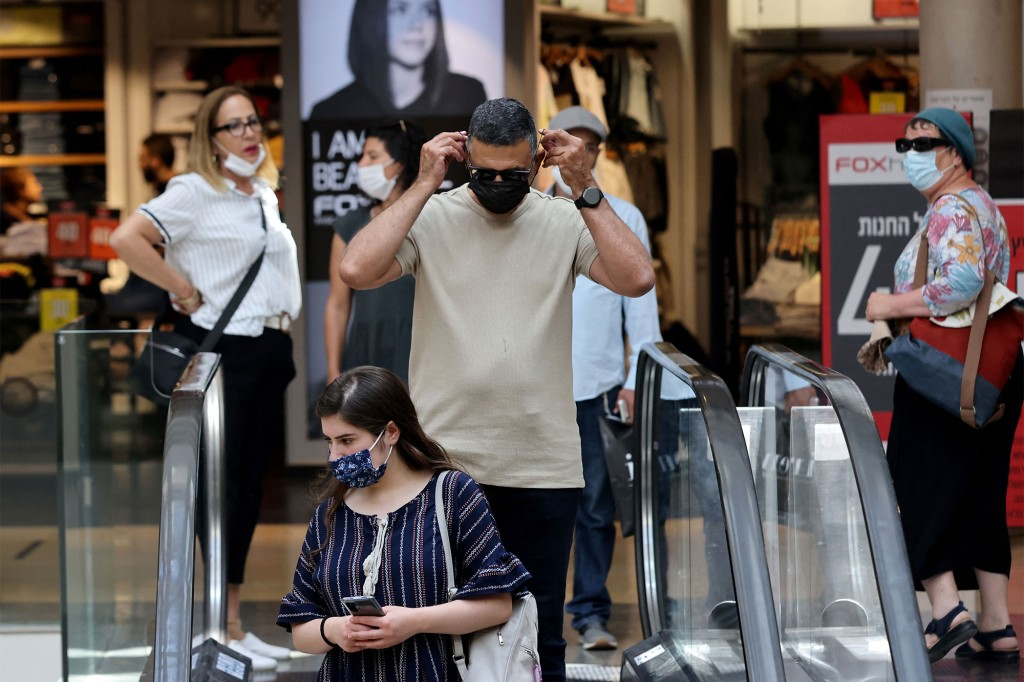with_incorrect_mask: (216, 105, 268, 180)
with_mask: (324, 426, 396, 495), (467, 153, 538, 217), (897, 126, 947, 191)
